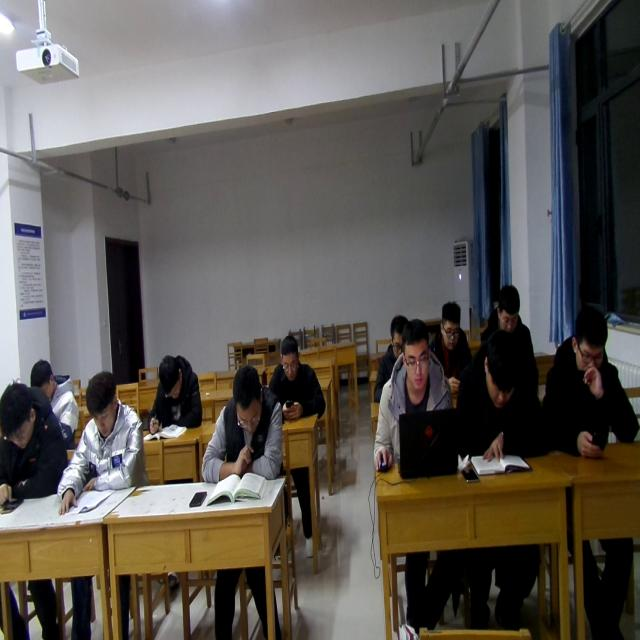bow: (1, 381, 68, 507)
down: (480, 336, 521, 409), (568, 304, 609, 374), (82, 368, 120, 441), (1, 374, 36, 450), (230, 360, 264, 436), (401, 316, 433, 392), (494, 280, 522, 335), (438, 295, 463, 354), (156, 354, 184, 406), (277, 330, 302, 380), (26, 353, 54, 397), (384, 313, 409, 357)
sit: (541, 302, 639, 456), (372, 318, 457, 474), (57, 369, 143, 519), (455, 329, 542, 462), (202, 366, 284, 487), (267, 334, 327, 421), (481, 284, 544, 364), (28, 358, 81, 450), (147, 350, 206, 432), (430, 298, 477, 398), (374, 314, 407, 405)
